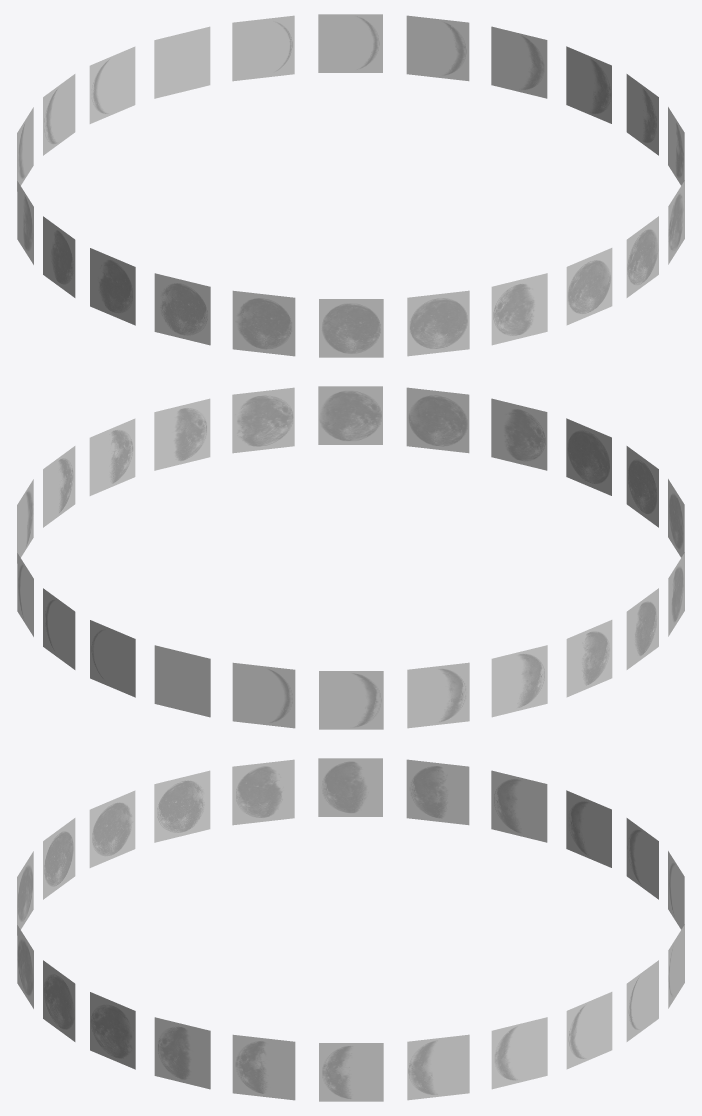
File: moon_ring.fbx
The picture shows the model from 3 angles, top to bottom: view 1: azimuth 30°, elevation 25°; view 2: azimuth 150°, elevation 25°; view 3: azimuth 270°, elevation 25°; orthographic projection.
Parts seen in each view (by area): view 1: pCylinder1; view 2: pCylinder1; view 3: pCylinder1.
Part boxes in pixels (x1,y1,x2,y2): pCylinder1: (17, 14, 684, 357); pCylinder1: (17, 386, 684, 729); pCylinder1: (17, 758, 684, 1101).
Size of the model in its own units: 88.76 by 8.53 by 88.76.
